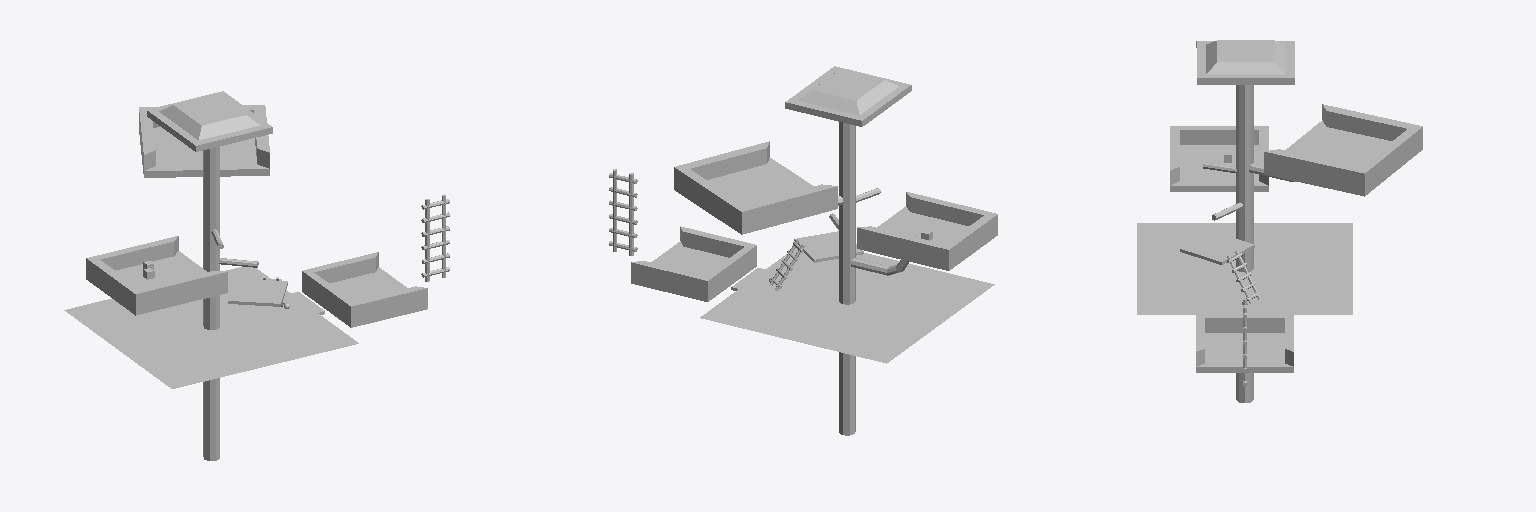
File: geruest.obj
The picture shows the model from 3 angles: view 1: azimuth 30°, elevation 25°; view 2: azimuth 150°, elevation 25°; view 3: azimuth 270°, elevation 25°; orthographic projection.
Parts seen in each view (by area): view 1: Gerüst_Cube.001, Boden_Plane, Kuhle_Cube.000, Leiter_Cylinder; view 2: Gerüst_Cube.001, Boden_Plane, Kuhle_Cube.000, Leiter_Cylinder, Cylinder.001_Cylinder.003; view 3: Gerüst_Cube.001, Boden_Plane, Kuhle_Cube.000, Leiter.001_Cylinder.001.
Boxes of the visible parts, x1,y1,x2,y2 form: Gerüst_Cube.001: [86, 91, 324, 460]; Boden_Plane: [64, 267, 358, 388]; Kuhle_Cube.000: [302, 252, 427, 327]; Leiter_Cylinder: [421, 194, 449, 281]; Gerüst_Cube.001: [674, 66, 997, 435]; Boden_Plane: [700, 248, 994, 363]; Kuhle_Cube.000: [631, 226, 756, 301]; Leiter_Cylinder: [609, 169, 637, 255]; Cylinder.001_Cylinder.003: [851, 258, 908, 275]; Gerüst_Cube.001: [1170, 40, 1422, 402]; Boden_Plane: [1137, 223, 1352, 314]; Kuhle_Cube.000: [1196, 315, 1293, 372]; Leiter.001_Cylinder.001: [1227, 251, 1260, 303].
Size of the model in its own units: 23.64 by 22.41 by 16.73.